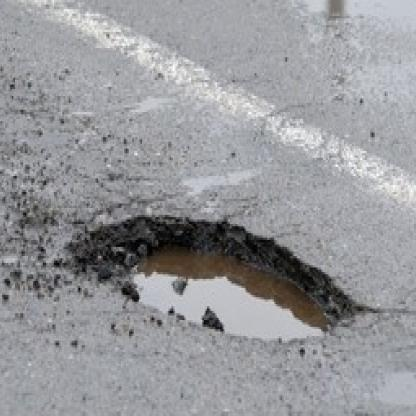pothole: (82, 208, 357, 347)
